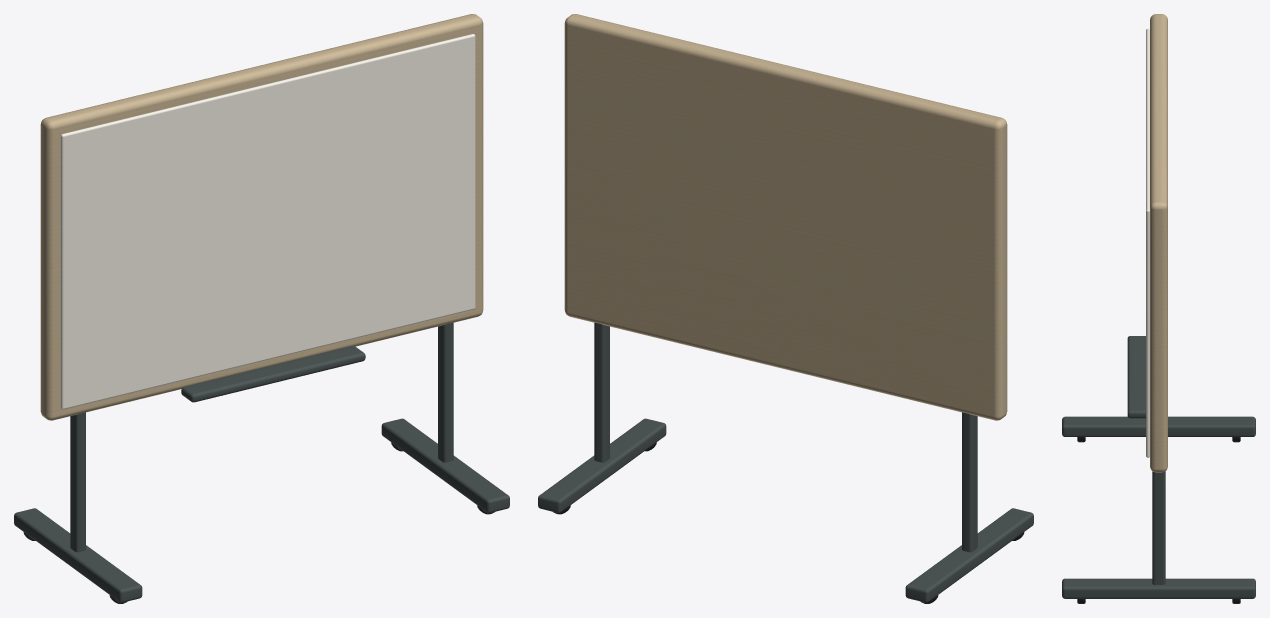
File: mobile-board-v1.glb
3 views of the same model, side by side, from view 1: azimuth 30°, elevation 25°; view 2: azimuth 150°, elevation 25°; view 3: azimuth 270°, elevation 25° (orthographic). The views are drawn at different scales.
Parts seen in each view (by area): view 1: Mobile board upright; view 2: Mobile board upright; view 3: Mobile board upright.
Part boxes in pixels (bbox=[...]): Mobile board upright: bbox=[14, 14, 509, 603]; Mobile board upright: bbox=[538, 14, 1033, 603]; Mobile board upright: bbox=[1062, 14, 1255, 603].
Bounding box in the file's own units: 1.88 × 1.88 × 0.8.
4 materials, 1 textured.
